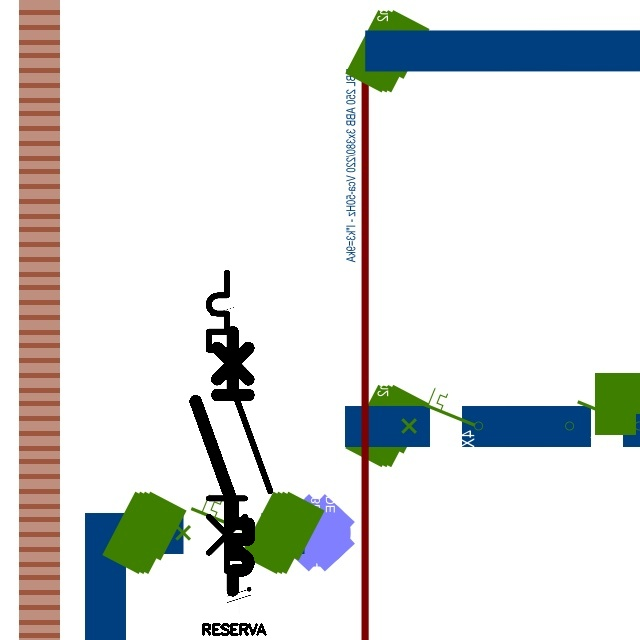interruptor_termomagnetico: (201, 265, 278, 579), (189, 325, 255, 596)
